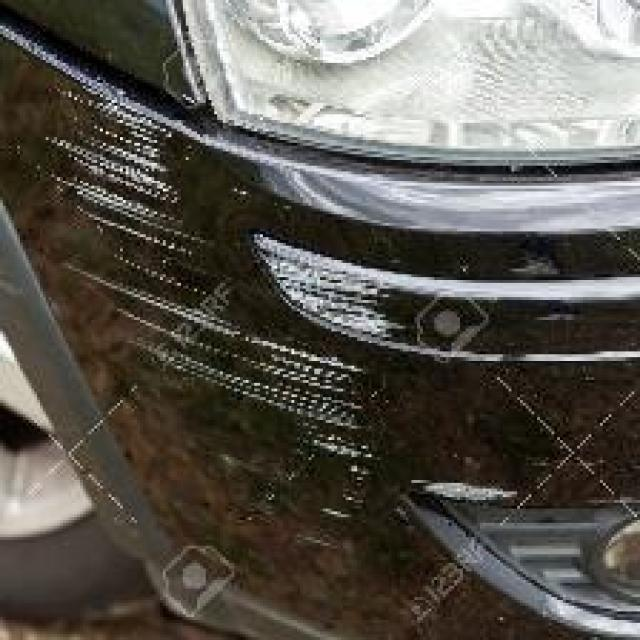damaged: (43, 77, 400, 594)
